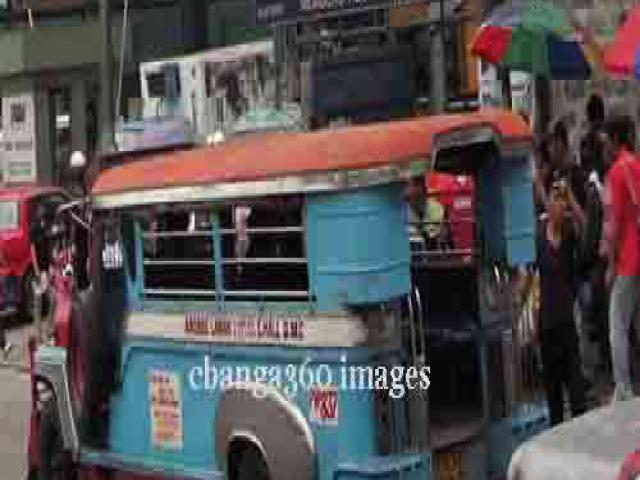jeepney: (20, 116, 538, 480)
